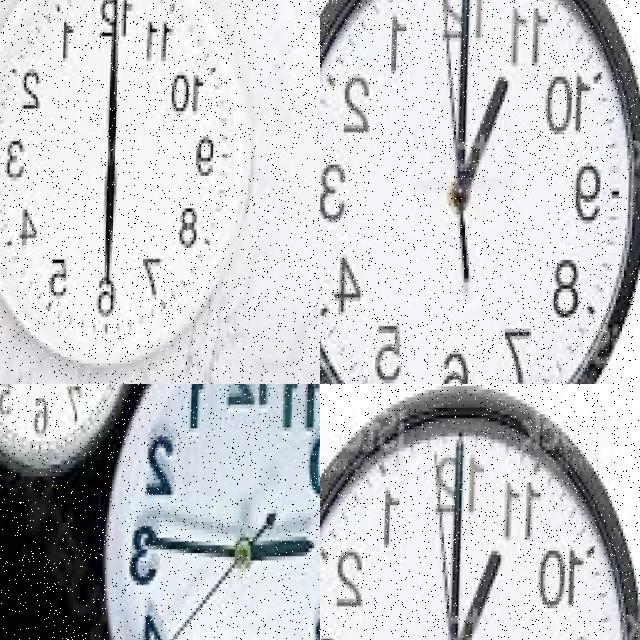Clocks-images: (321, 1, 640, 385), (1, 1, 262, 369), (321, 390, 640, 640), (101, 385, 321, 640), (1, 385, 147, 479)
